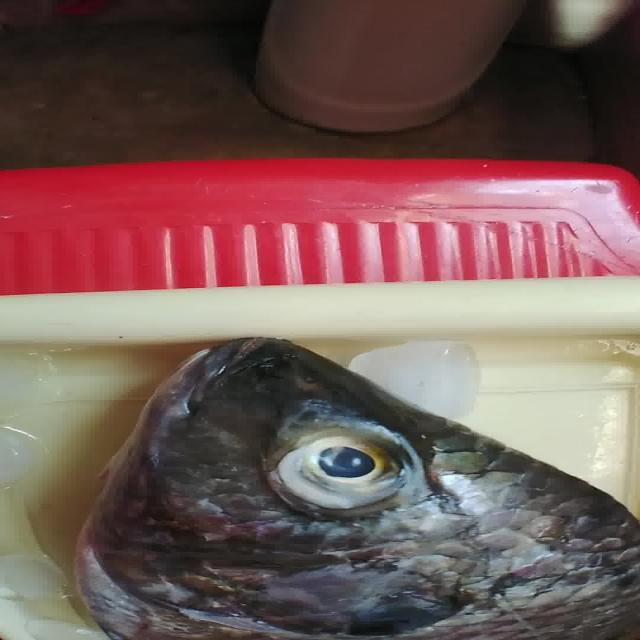Fresh: (251, 421, 432, 515)
